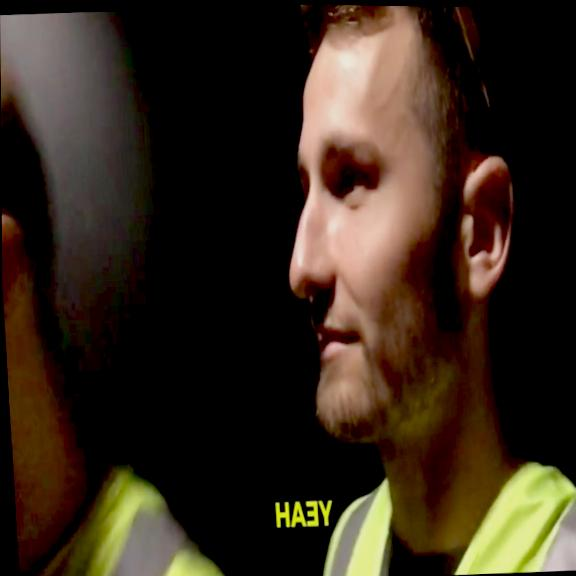safety_vest: (314, 456, 576, 576), (76, 456, 229, 576)
